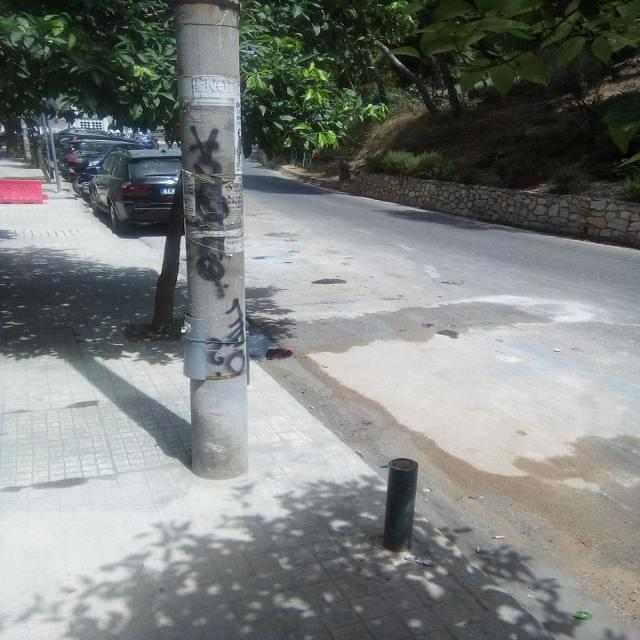nonspitting: (190, 126, 230, 298), (209, 298, 246, 374)
